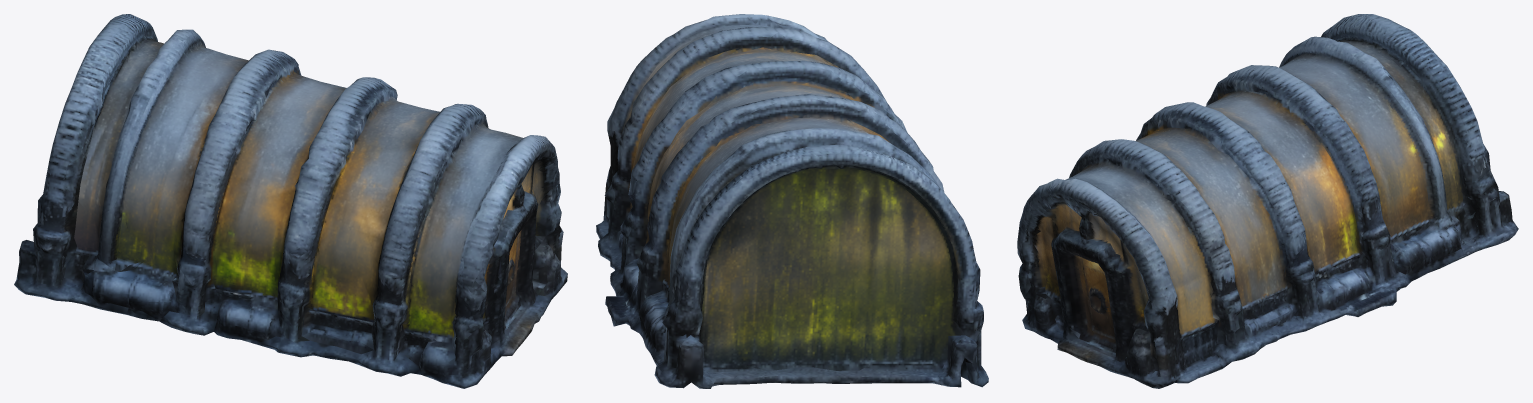
Rendered from greenhouse.glb.
The picture shows the model from 3 angles, left to right: view 1: azimuth 30°, elevation 25°; view 2: azimuth 150°, elevation 25°; view 3: azimuth 270°, elevation 25°; orthographic projection. The views are drawn at different scales.
Visible parts, largest first — view 1: low; view 2: low; view 3: low.
Boxes of the visible parts, bbox=[...] form: low: bbox=[14, 14, 567, 388]; low: bbox=[596, 14, 988, 388]; low: bbox=[1017, 14, 1518, 388].
Bounding box in the file's own units: 11.43 × 6.1 × 12.
Materials: 1 (1 with a texture image).
